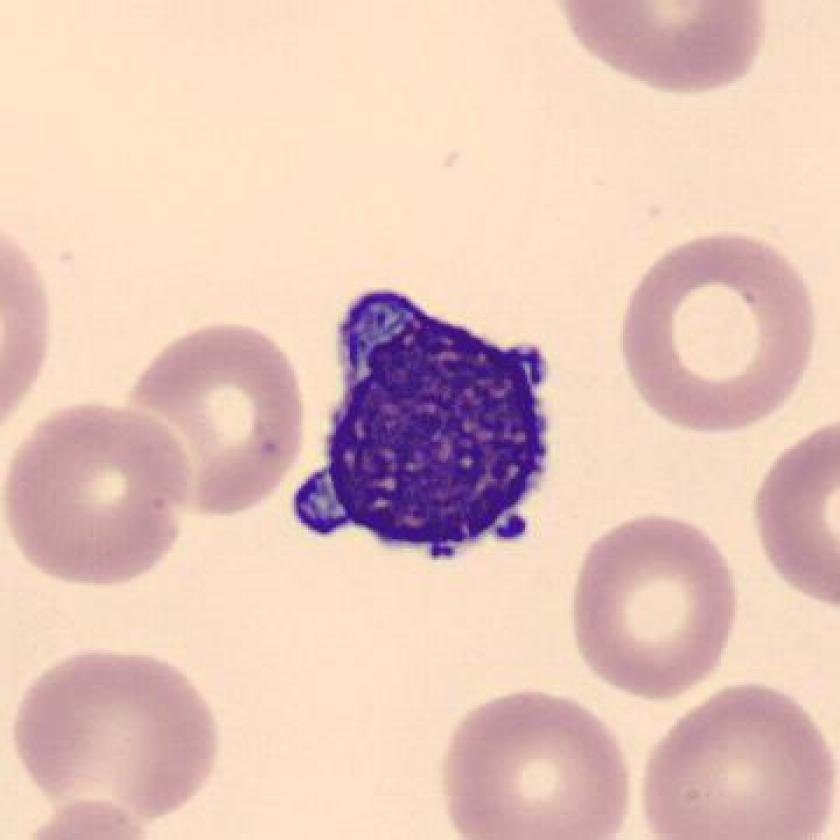lymphocyte: (286, 274, 568, 589)
